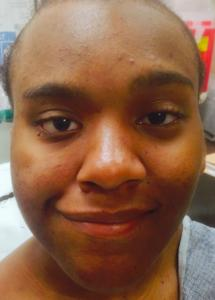strokeEyeMid: (26, 73, 197, 142)
strokeMouthWeak: (44, 193, 167, 247)
